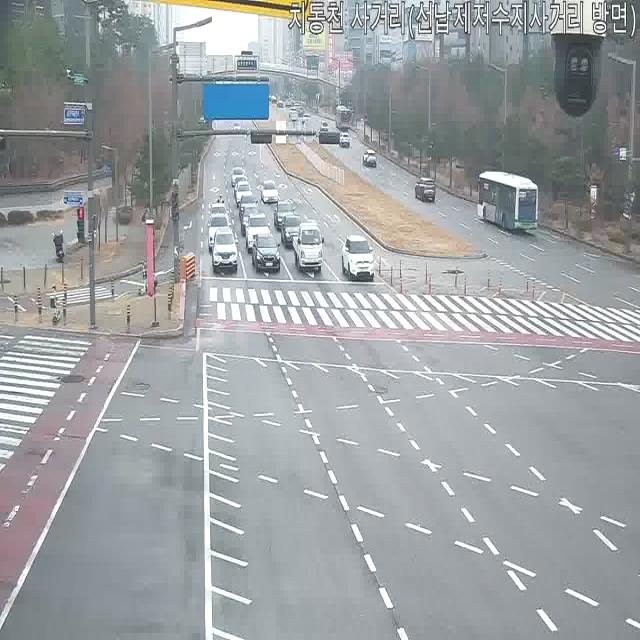Bus: (477, 170, 541, 234), (334, 105, 352, 131)
Car: (341, 234, 374, 282), (210, 229, 238, 274), (251, 233, 281, 274), (244, 213, 271, 252), (206, 214, 232, 250), (281, 214, 305, 249), (273, 200, 295, 231), (239, 207, 263, 235), (208, 201, 230, 231), (414, 177, 436, 203), (238, 193, 258, 220), (235, 180, 253, 207), (260, 180, 279, 204), (230, 167, 246, 188), (362, 149, 378, 167), (302, 117, 314, 138), (339, 134, 350, 148), (319, 120, 329, 134), (302, 111, 311, 124), (293, 106, 303, 117), (276, 98, 284, 109)
Motorcycle: (216, 192, 226, 214)
Truck: (294, 220, 324, 274)
